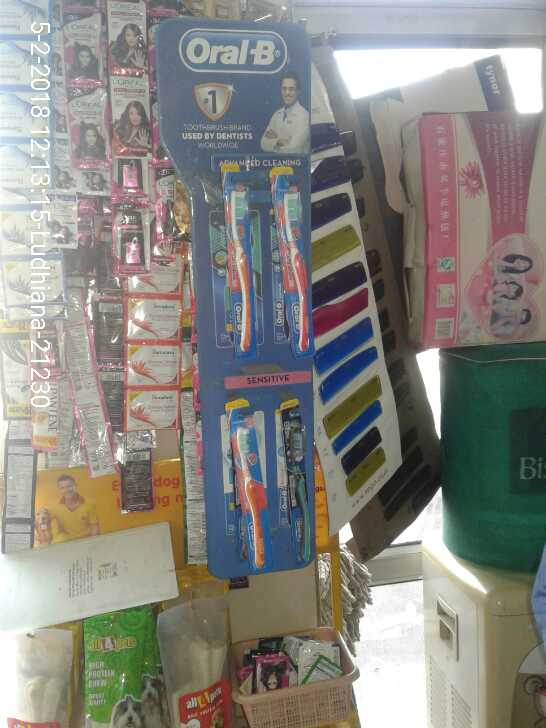oralb: (276, 176, 329, 365), (217, 183, 258, 366), (231, 414, 273, 577), (278, 403, 312, 555)
